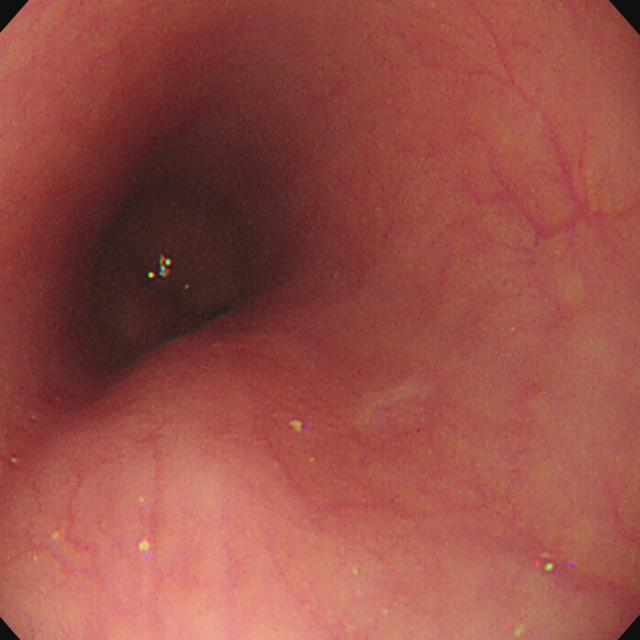U: (148, 254, 173, 280)
